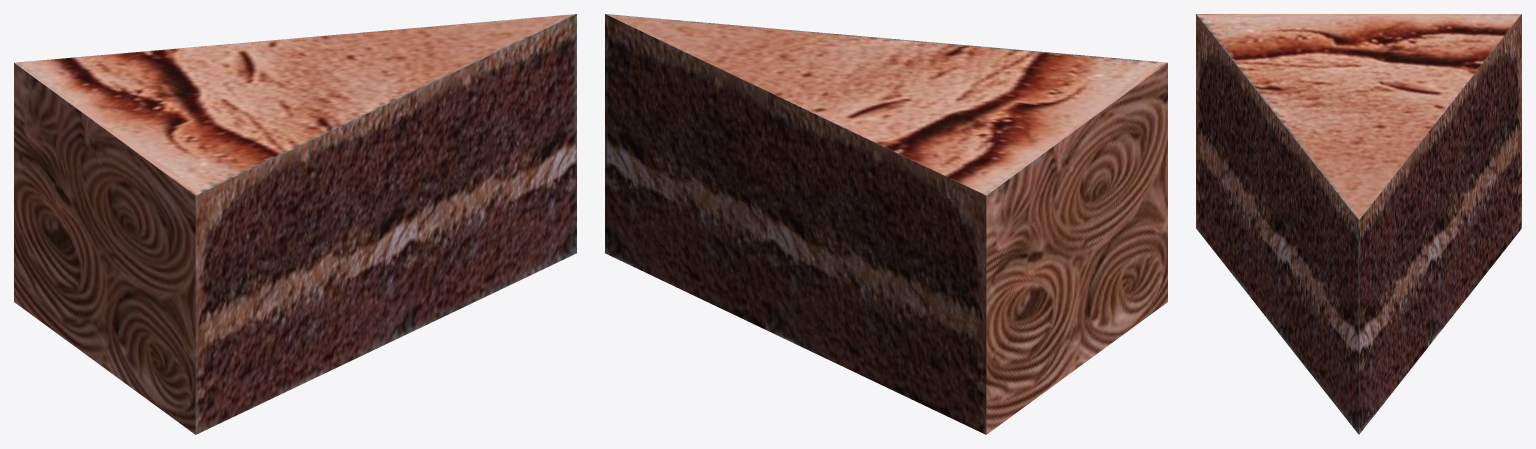
File: Torta.fbx
3 views of the same model, side by side, from view 1: azimuth 30°, elevation 25°; view 2: azimuth 150°, elevation 25°; view 3: azimuth 270°, elevation 25° (orthographic). The views are drawn at different scales.
Visible parts, largest first — view 1: Cube; view 2: Cube; view 3: Cube.
Boxes of the visible parts, left/top/right/bottom form: Cube: left=14, top=14, right=576, bottom=434; Cube: left=605, top=14, right=1167, bottom=434; Cube: left=1196, top=14, right=1521, bottom=434.
Bounding box in the file's own units: 300 × 145 × 200.
1 material, 1 textured.
